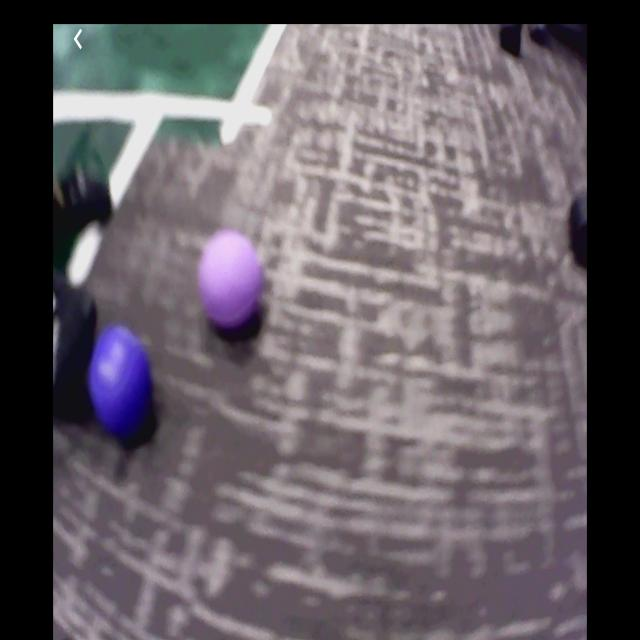ball: (91, 328, 154, 439), (198, 228, 264, 333)
